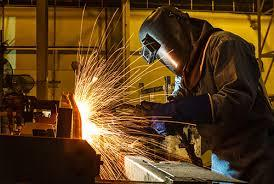gloves: (136, 93, 216, 124)
